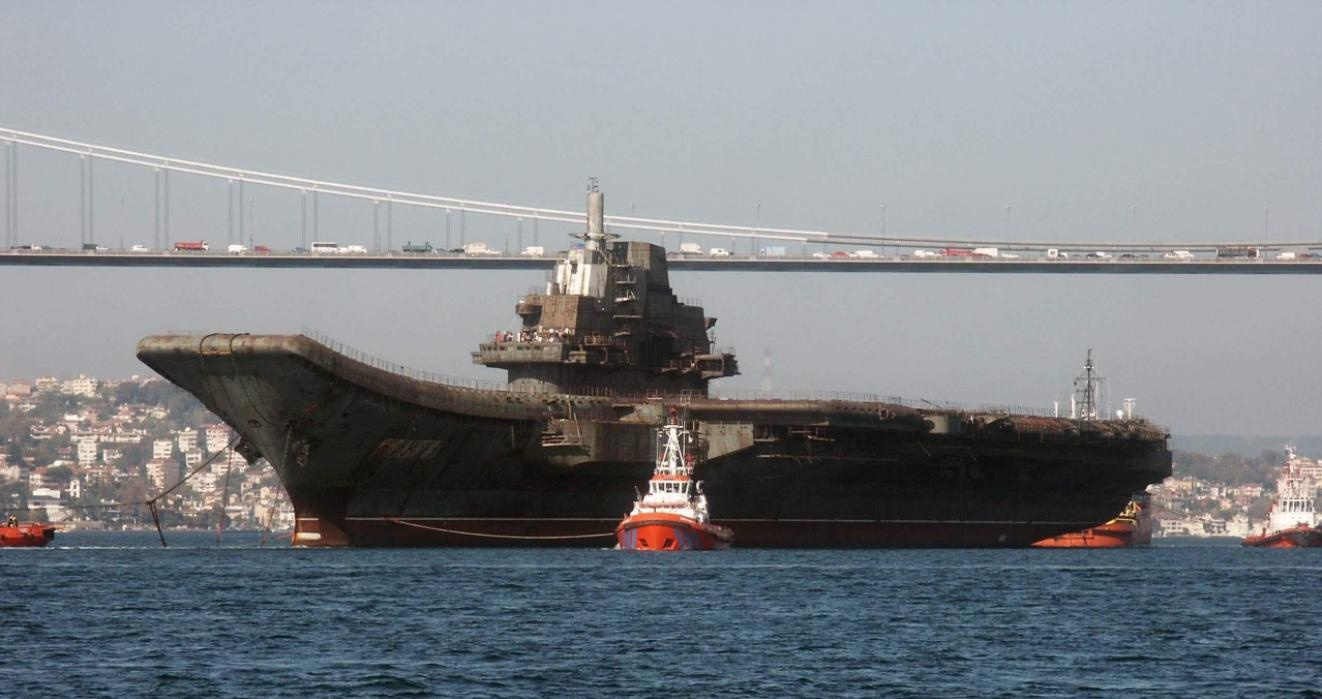otherboat: (600, 411, 743, 556), (1240, 461, 1322, 554)
warship: (137, 251, 1178, 544)
